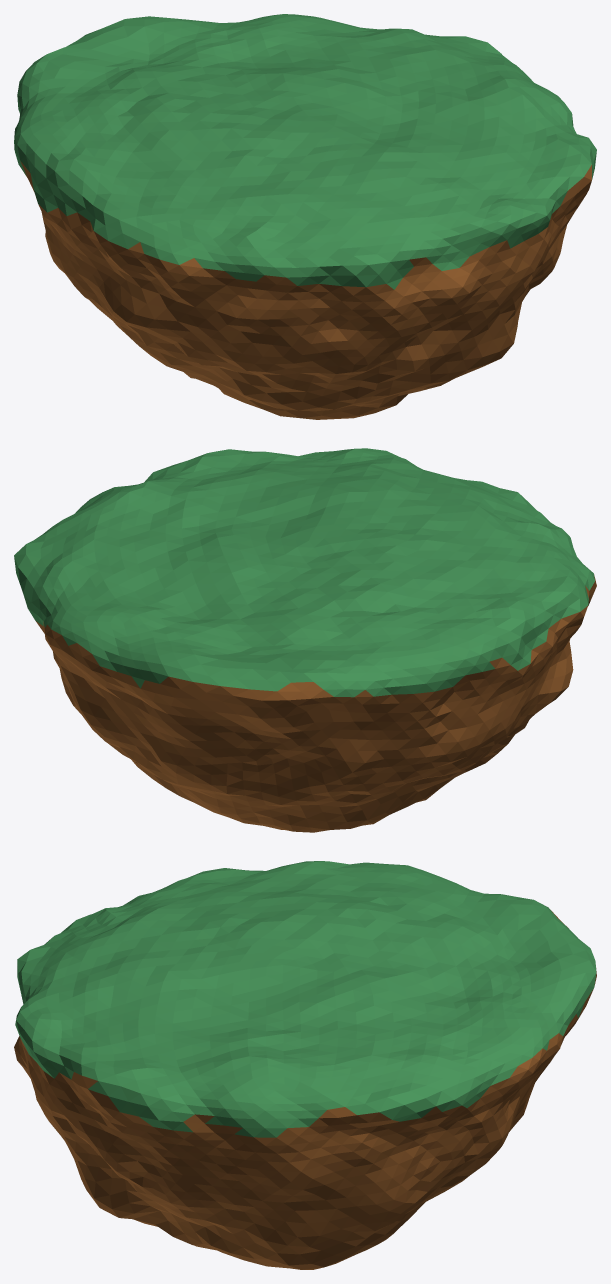
The model's file is forest_island_6fbx.fbx.
3 views of the same model, one above another, from view 1: azimuth 30°, elevation 25°; view 2: azimuth 150°, elevation 25°; view 3: azimuth 270°, elevation 25° (orthographic).
Parts seen in each view (by area): view 1: Icosphere.025; view 2: Icosphere.025; view 3: Icosphere.025.
Boxes of the visible parts, bbox=[...] form: Icosphere.025: bbox=[14, 14, 596, 419]; Icosphere.025: bbox=[14, 448, 596, 832]; Icosphere.025: bbox=[14, 861, 596, 1269].
Size of the model in its own units: 4830 by 2712 by 5068.
